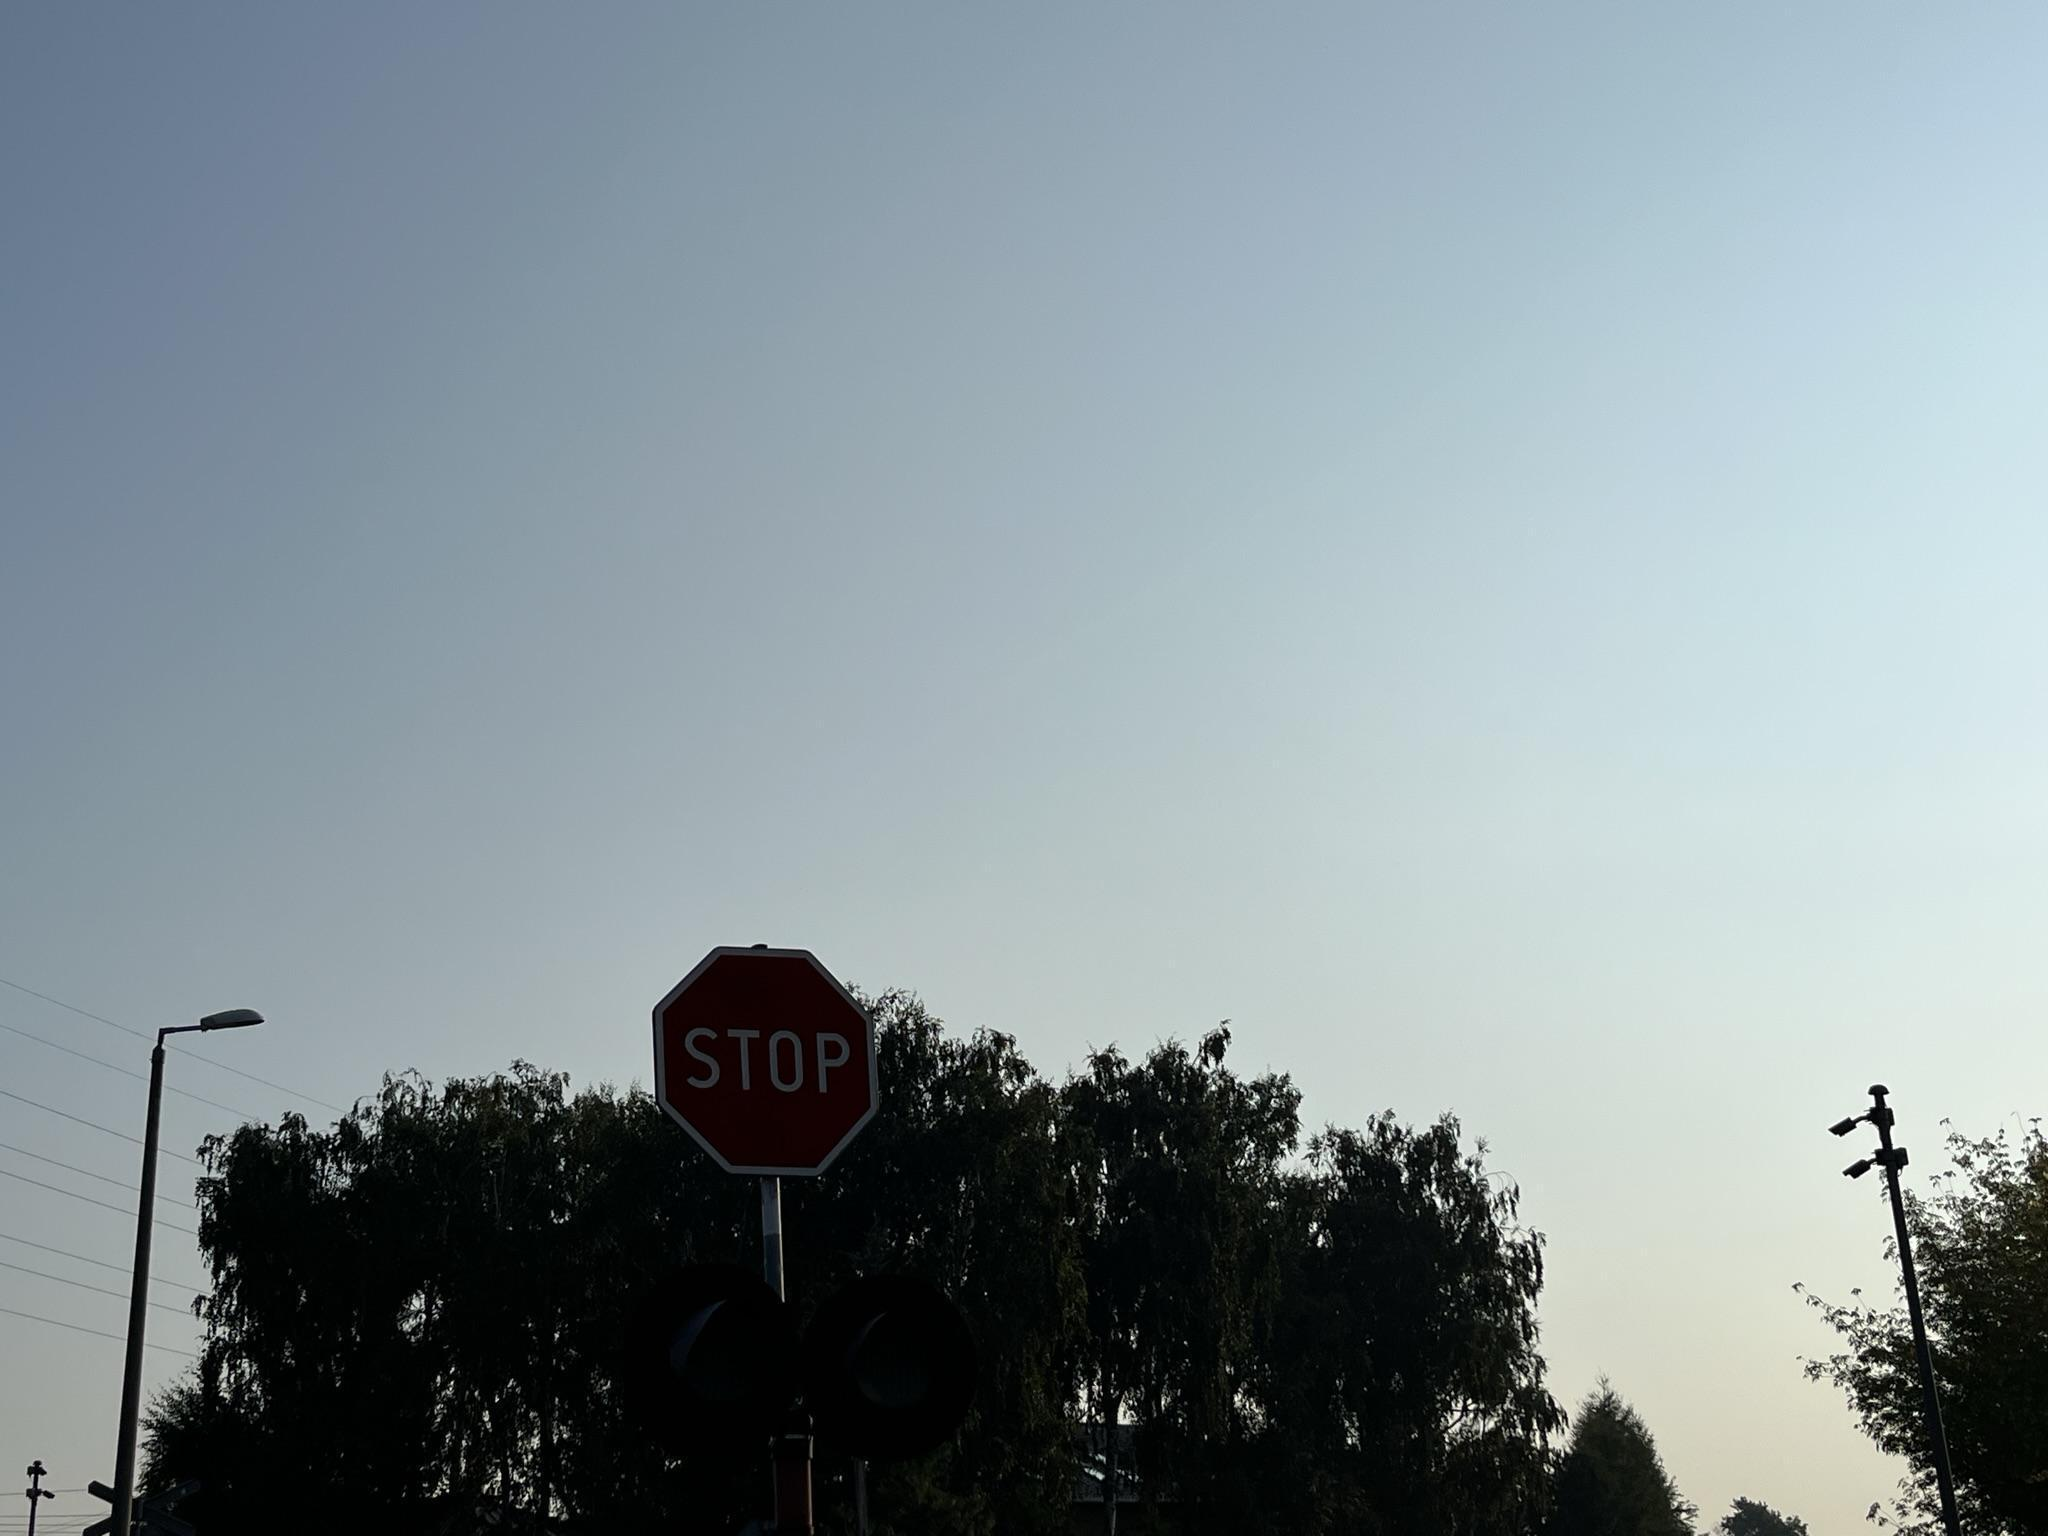prohibitory: (651, 944, 880, 1178)
